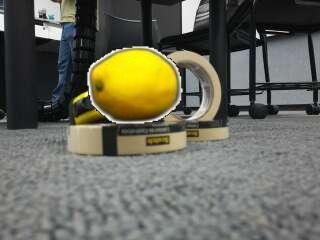lemon: (91, 51, 178, 122)
